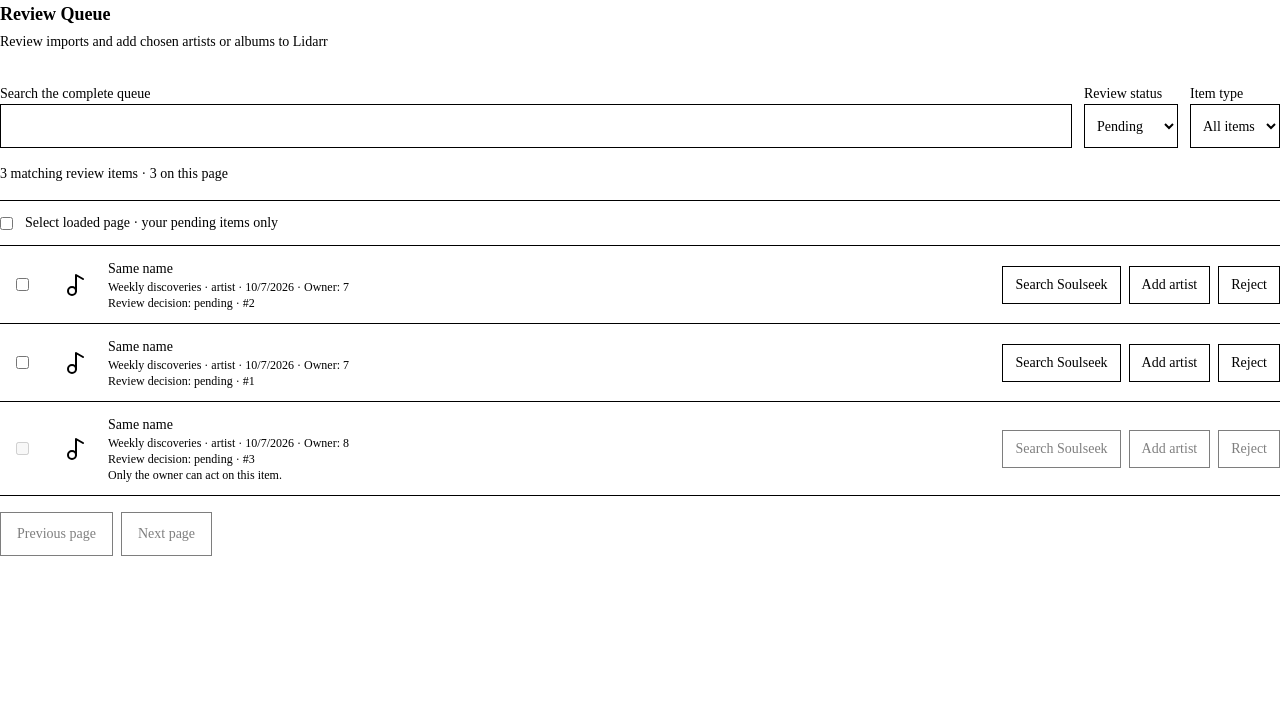
Test: keeps lost-response additions uncertain and retries only records still pending after reconciliation
This screenshot has width=1280, height=720.
Step 1. Click the checkbox labelled "Select loaded page" → [6, 223], box [0,216,13,230]
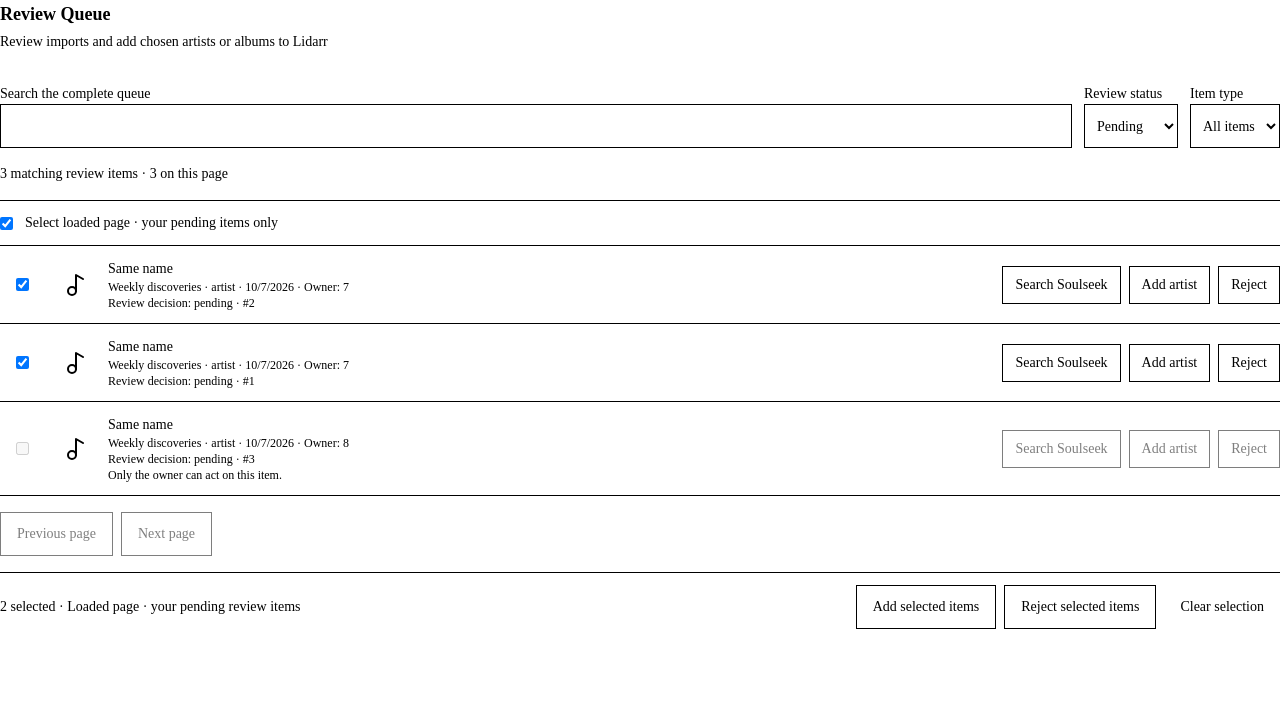
Step 2. Click the button "Add selected items" → [926, 607], box [856,585,996,629]
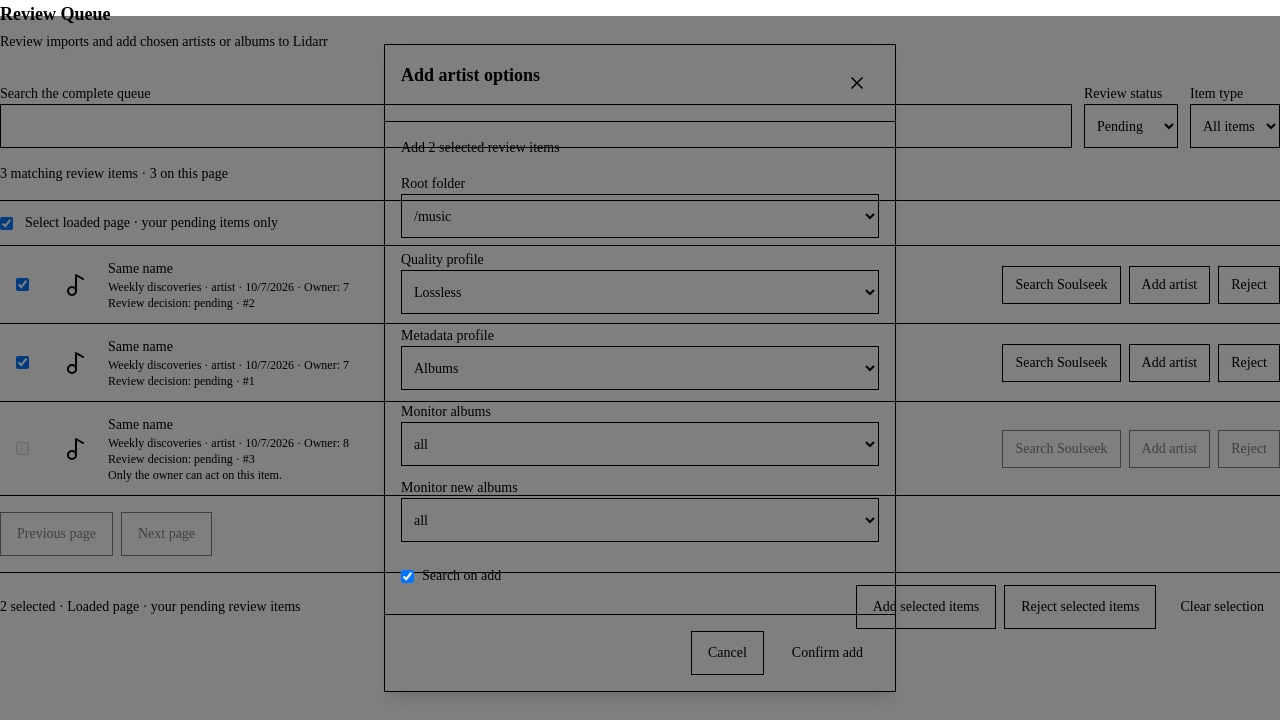
Now the dropdown labelled "Root folder" is enabled, box [401,194,879,238]
Step 3. Click the button "Confirm add" → [827, 653], box [776,631,879,675]
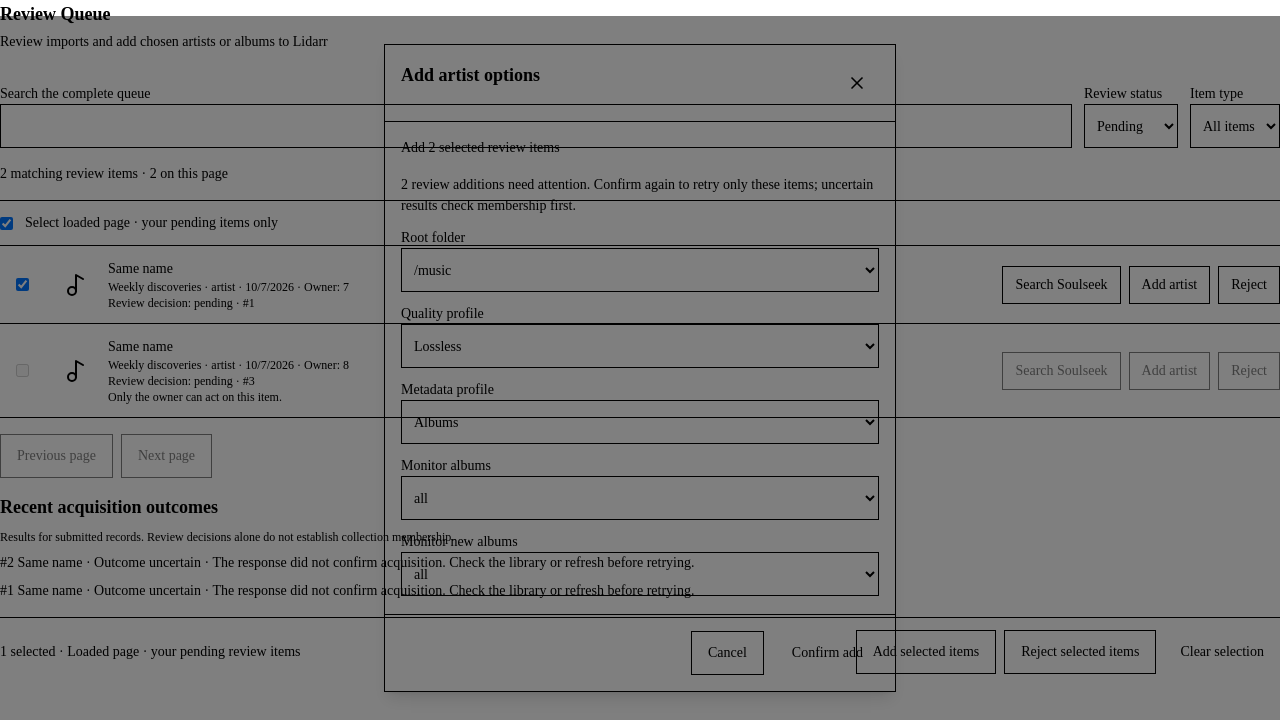
Step 4. Click the button "Confirm add" → [827, 653], box [776,631,879,675]
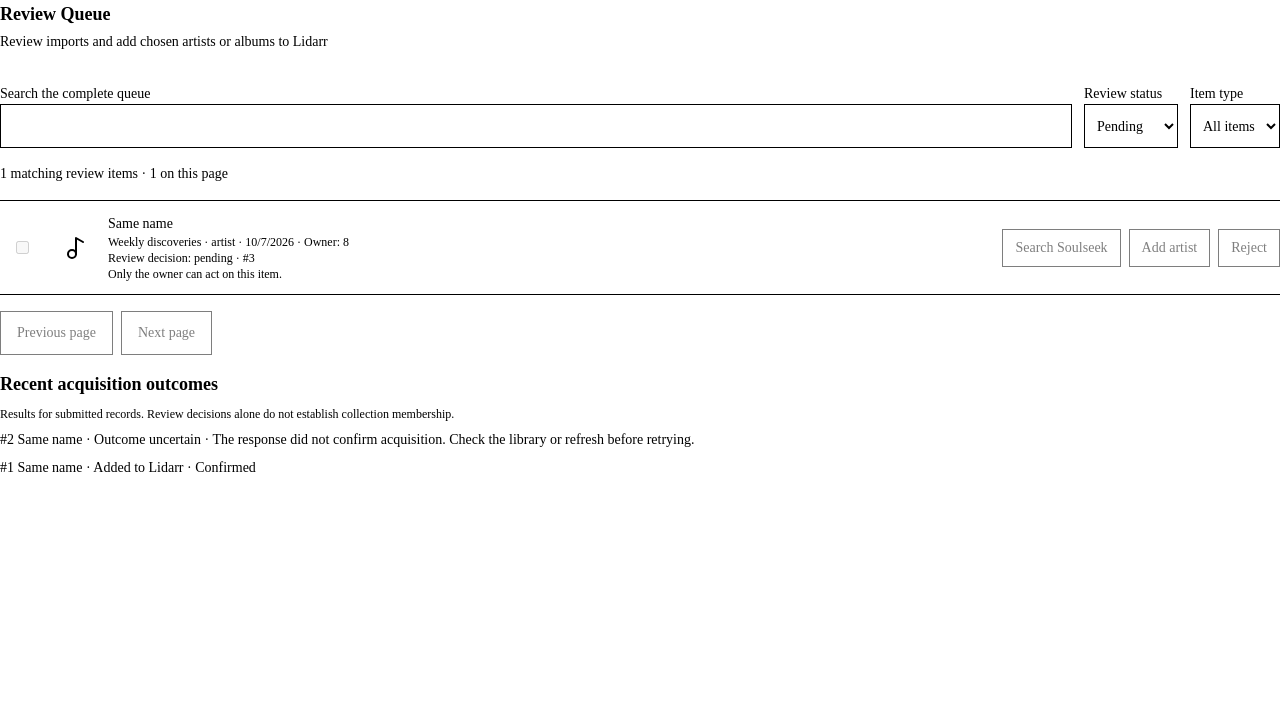
Now the dialog is gone
Now the text "Outcome uncertain" is shown once, box [94,432,201,447]
